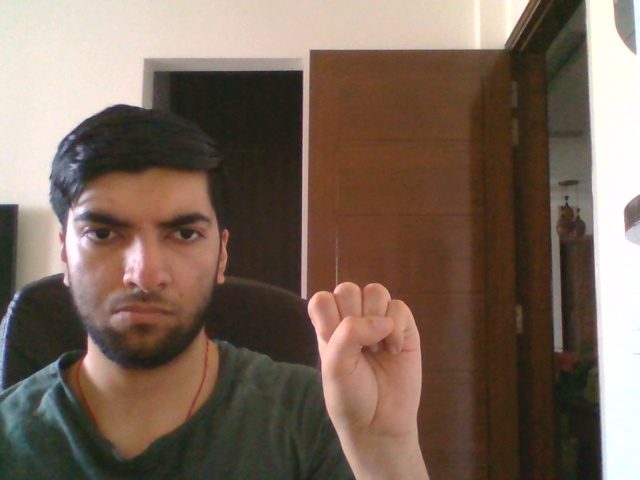LetterE: (306, 281, 423, 444)
